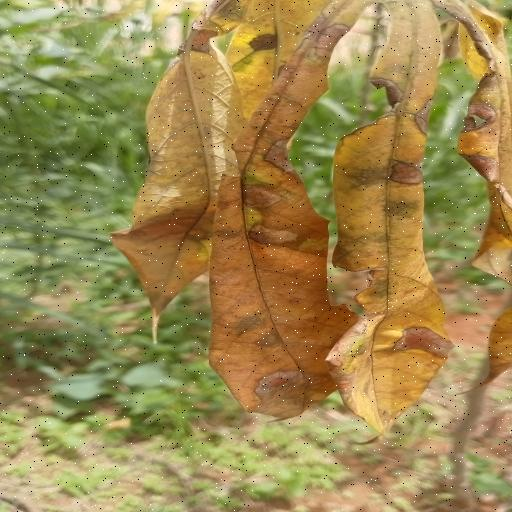Cassava_Brown_Leaf_Spot: (101, 0, 512, 430)
